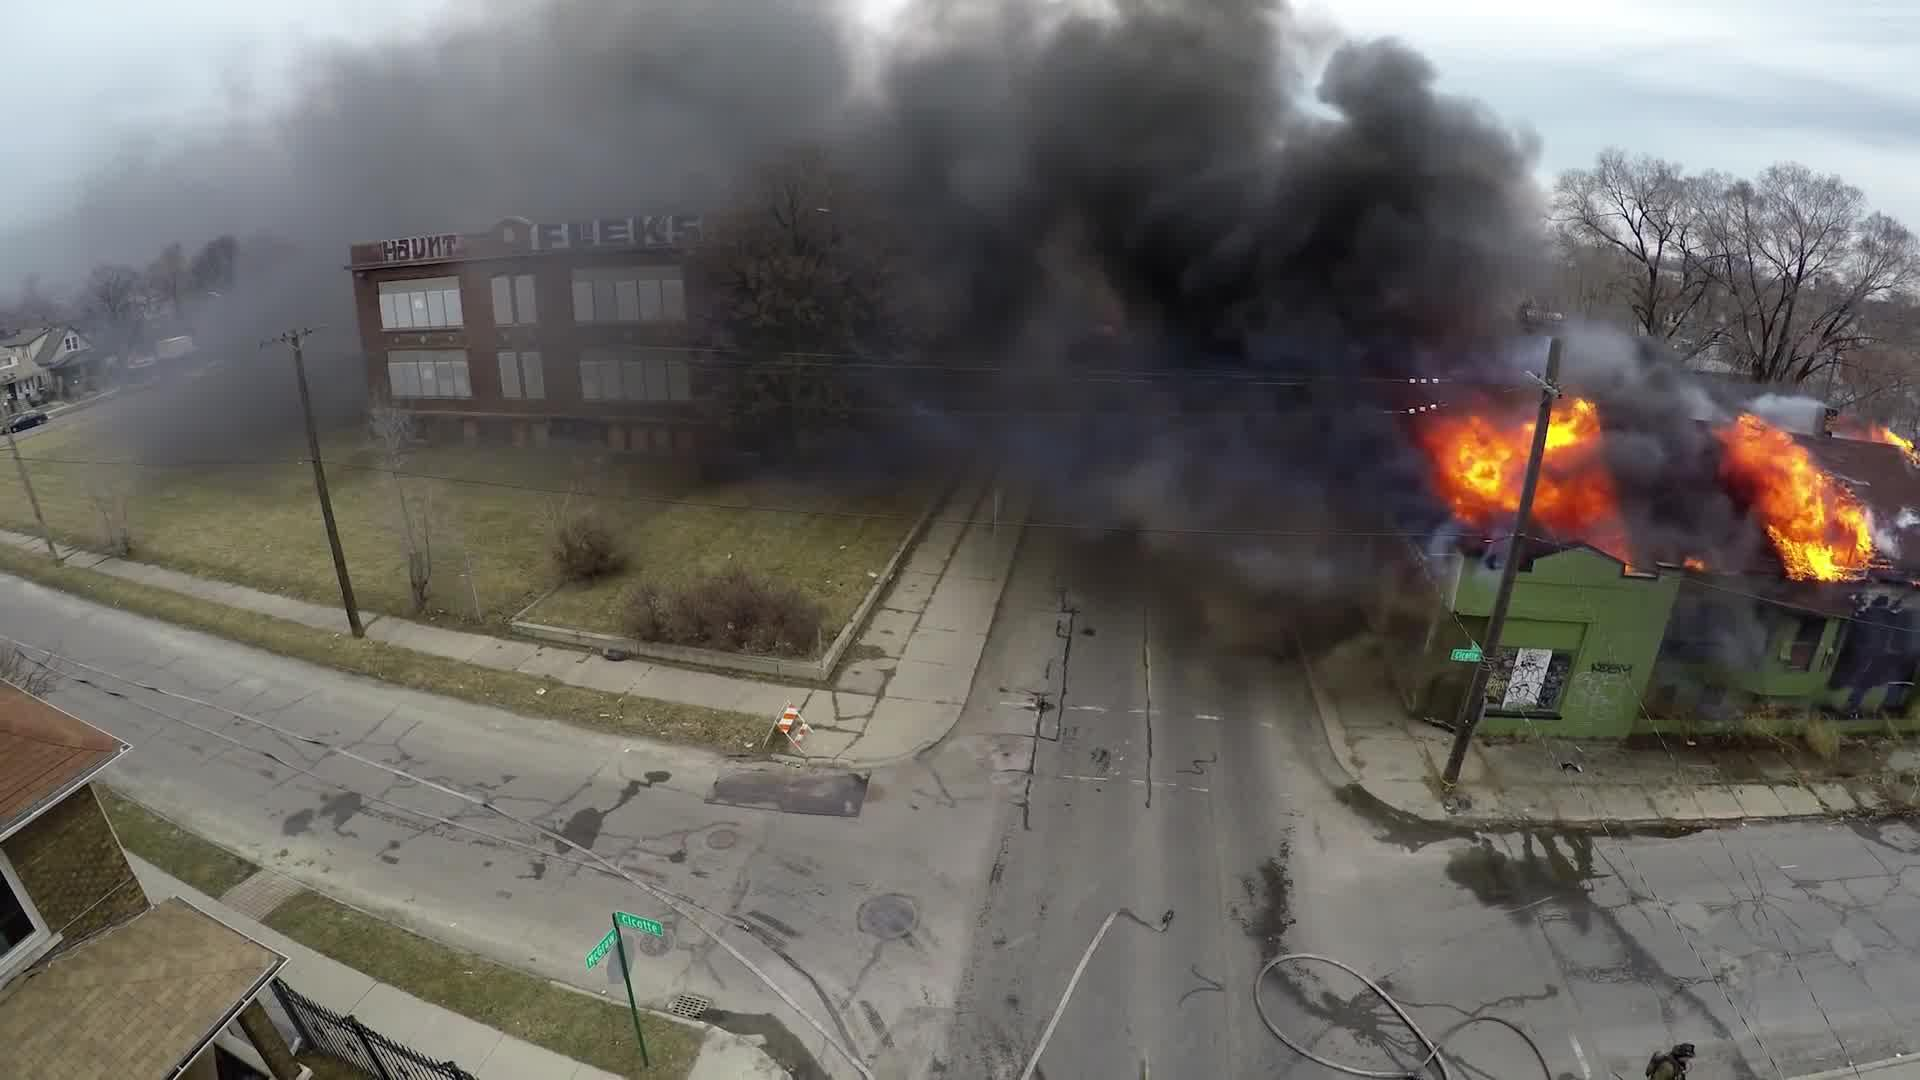fire: (1730, 419, 1847, 549), (1444, 407, 1594, 502)
smoke: (906, 96, 1444, 560), (348, 62, 756, 194)
